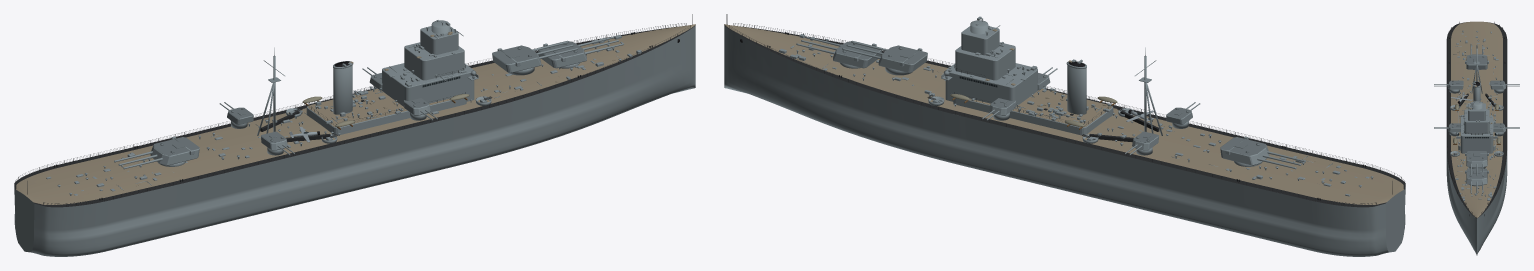
Rendered from scharnhorst.glb.
The picture shows the model from 3 angles, left to right: view 1: azimuth 30°, elevation 25°; view 2: azimuth 150°, elevation 25°; view 3: azimuth 270°, elevation 25°; orthographic projection. The views are drawn at different scales.
Visible parts, largest first — view 1: scharnhorst, T_2_malla, T_1_malla, T_0_malla, T_5_malla; view 2: scharnhorst, T_2_malla, T_1_malla, T_0_malla, T_6_malla; view 3: scharnhorst, T_0_malla, T_1_malla, T_2_malla, T_5_malla, T_6_malla, T_3_malla, T_4_malla, C_0, C_1.
Boxes of the visible parts, x1=… form: scharnhorst: x1=14, y1=14, x2=695, y2=256; T_2_malla: x1=150, y1=136, x2=199, y2=165; T_1_malla: x1=492, y1=45, x2=541, y2=72; T_0_malla: x1=538, y1=40, x2=586, y2=68; T_5_malla: x1=261, y1=131, x2=287, y2=150; scharnhorst: x1=724, y1=14, x2=1405, y2=256; T_2_malla: x1=1220, y1=136, x2=1269, y2=165; T_1_malla: x1=878, y1=45, x2=927, y2=72; T_0_malla: x1=833, y1=40, x2=881, y2=68; T_6_malla: x1=1132, y1=131, x2=1158, y2=150; scharnhorst: x1=1446, y1=21, x2=1507, y2=255; T_0_malla: x1=1465, y1=168, x2=1488, y2=185; T_1_malla: x1=1465, y1=151, x2=1488, y2=167; T_2_malla: x1=1465, y1=54, x2=1488, y2=69; T_5_malla: x1=1448, y1=80, x2=1463, y2=89; T_6_malla: x1=1490, y1=80, x2=1505, y2=89; T_3_malla: x1=1448, y1=123, x2=1460, y2=132; T_4_malla: x1=1493, y1=123, x2=1505, y2=132; C_0: x1=1470, y1=181, x2=1483, y2=193; C_1: x1=1470, y1=163, x2=1483, y2=176.
Bounding box in the file's own units: 235 × 48 × 42.4.
